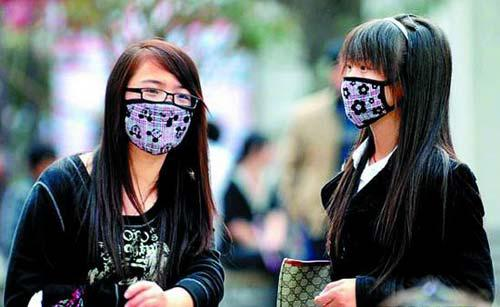OK: (129, 79, 198, 155), (342, 52, 410, 124)
